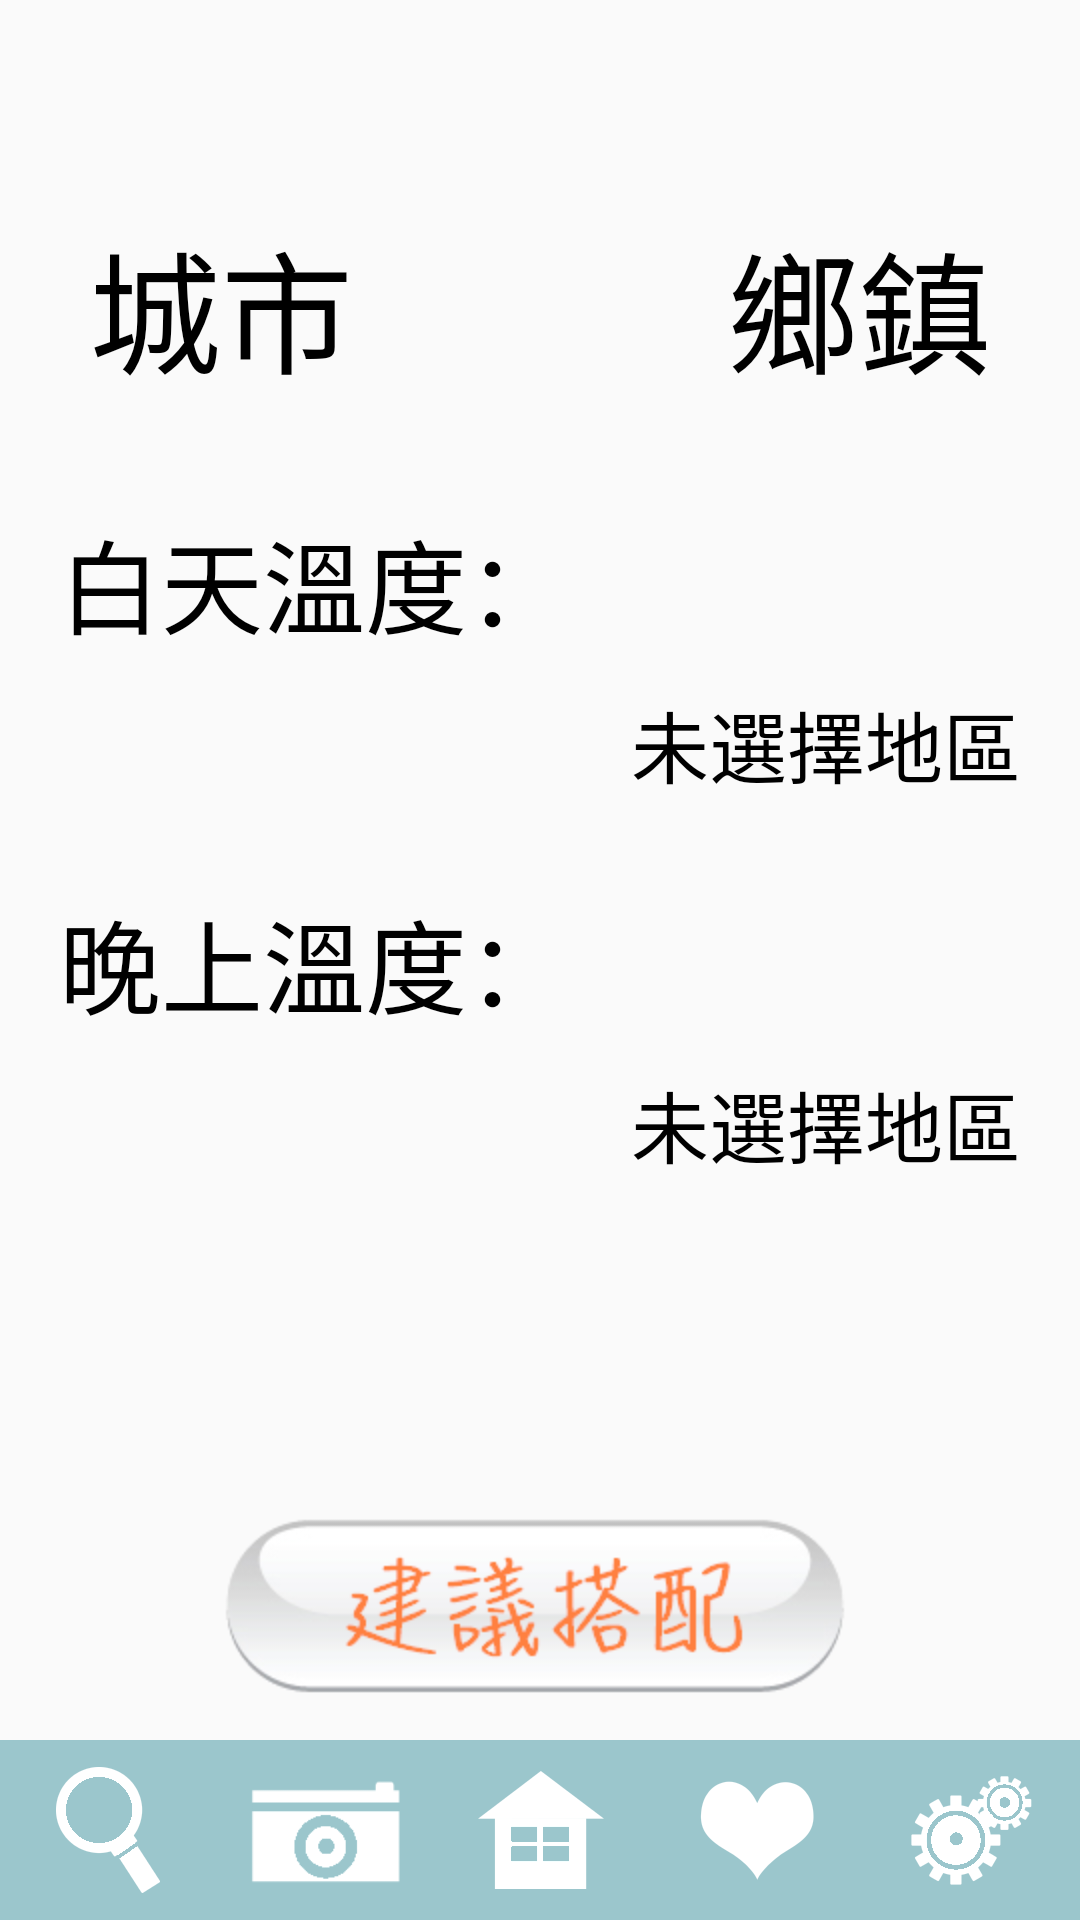

Screen size 1080px×1920px. Icon name, then its box in pixels as (x1, y1, x2, y2):
home: (478, 1771, 604, 1889)
like: (701, 1781, 814, 1880)
search: (56, 1767, 160, 1893)
setting: (911, 1776, 1032, 1885)
